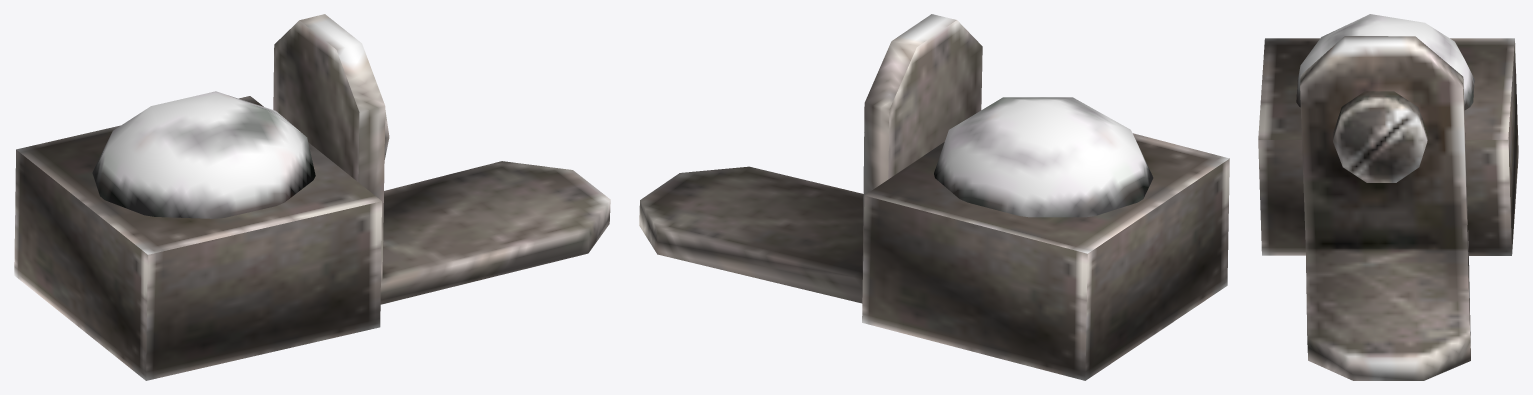
File: Robot01.RightFoot3.fbx
3 views of the same model, side by side, from view 1: azimuth 30°, elevation 25°; view 2: azimuth 150°, elevation 25°; view 3: azimuth 270°, elevation 25° (orthographic). The views are drawn at different scales.
Parts seen in each view (by area): view 1: Robot.013; view 2: Robot.013; view 3: Robot.013.
Part boxes in pixels (left/top/right/bottom): Robot.013: left=14, top=14, right=610, bottom=380; Robot.013: left=639, top=14, right=1229, bottom=380; Robot.013: left=1258, top=14, right=1518, bottom=380.
Size of the model in its own units: 65.68 by 30.16 by 31.96.
